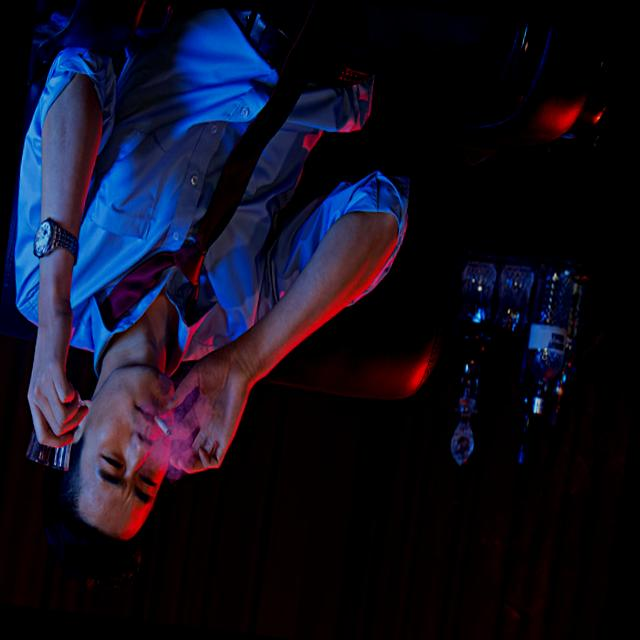cigarette: (150, 412, 173, 437)
